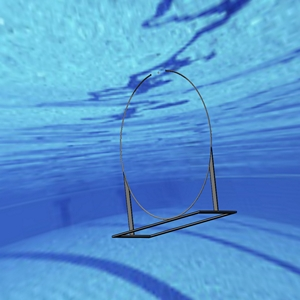circle: (111, 66, 237, 237)
